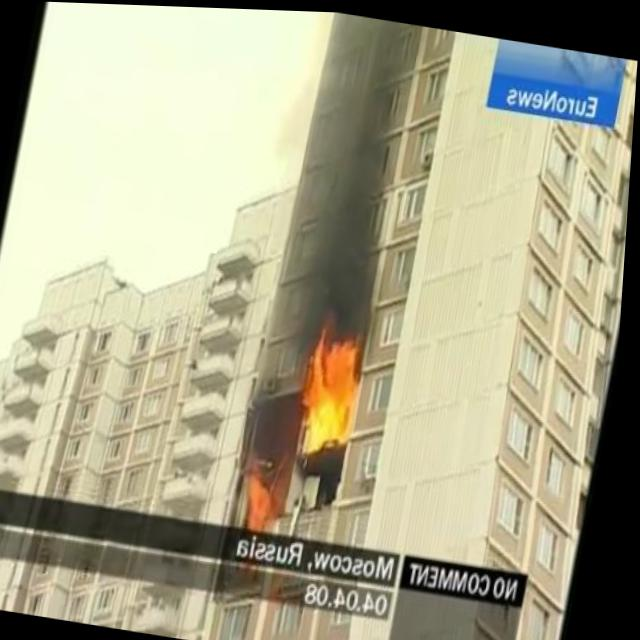fire: (294, 313, 378, 460), (240, 455, 293, 534)
